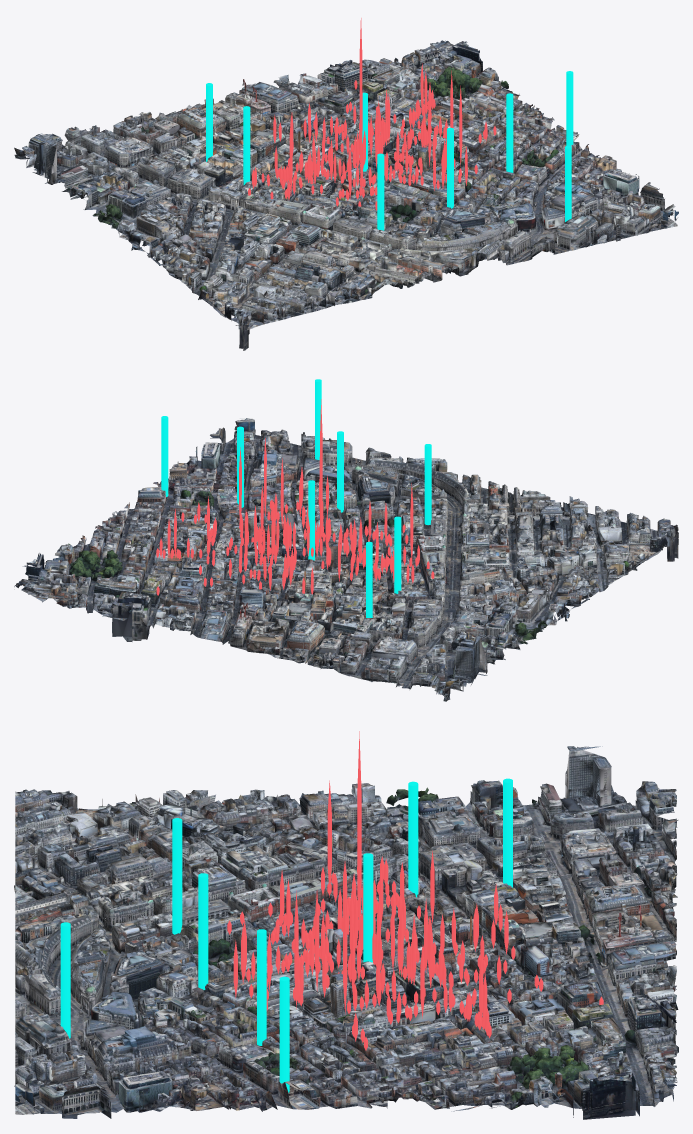
The model's file is asset.glb.
The picture shows the model from 3 angles, top to bottom: view 1: azimuth 30°, elevation 25°; view 2: azimuth 150°, elevation 25°; view 3: azimuth 270°, elevation 25°; orthographic projection. The views are drawn at different scales.
Visible parts, largest first — view 1: 216153517171416046_0, Visualizer_Pump, Visualizer; view 2: 216153517171416046_0, Visualizer_Pump, Visualizer; view 3: 216153517171416046_0, Visualizer_Pump, Visualizer.
Boxes of the visible parts, x1,y1,x2,y2 form: 216153517171416046_0: (14, 40, 678, 350); Visualizer_Pump: (248, 18, 496, 210); Visualizer: (206, 71, 573, 230); 216153517171416046_0: (14, 418, 678, 701); Visualizer_Pump: (156, 399, 434, 595); Visualizer: (161, 379, 431, 617); 216153517171416046_0: (14, 746, 678, 1119); Visualizer_Pump: (227, 731, 603, 1050); Visualizer: (60, 778, 512, 1092).
Size of the model in its own units: 896 by 366 by 802.
84 materials, 82 textured.
